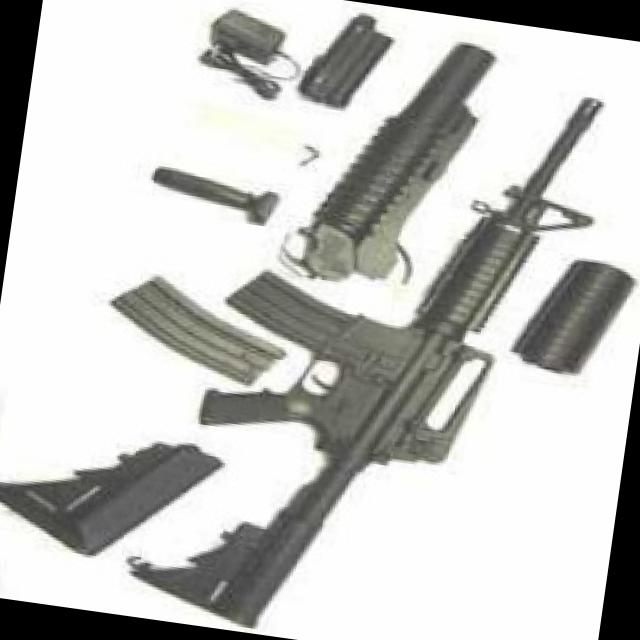long weapon: (122, 61, 634, 639)
